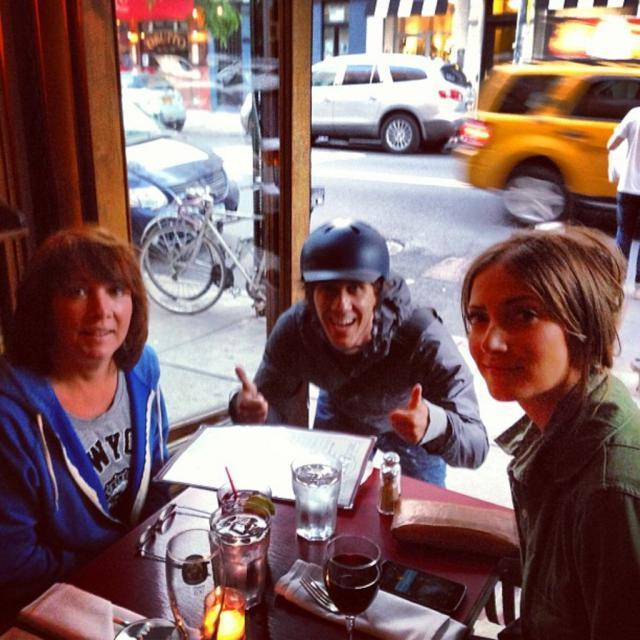closed-mouth: (80, 323, 122, 347), (482, 361, 530, 378)
